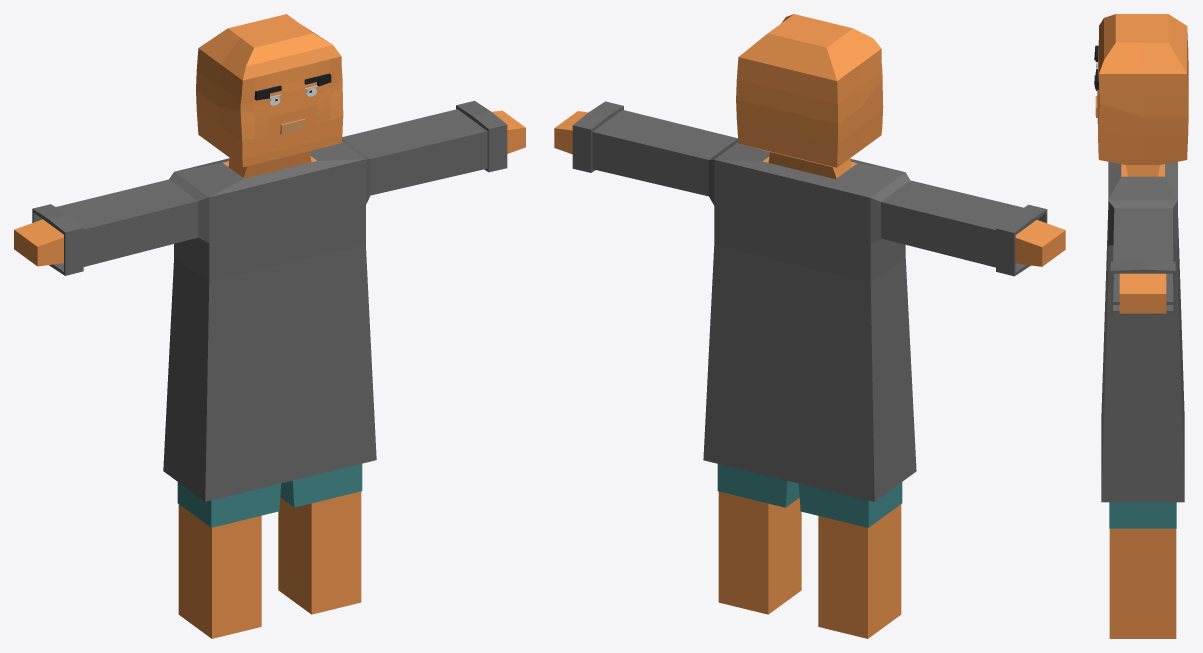
Rendered from character5.glb.
3 views of the same model, side by side, from view 1: azimuth 30°, elevation 25°; view 2: azimuth 150°, elevation 25°; view 3: azimuth 270°, elevation 25° (orthographic).
Parts seen in each view (by area): view 1: Cube.001, Cube, Cube.002; view 2: Cube.001, Cube, Cube.002; view 3: Cube.001, Cube, Cube.002.
Part boxes in pixels (x1,y1,x2,y2): Cube.001: (32, 100, 507, 501); Cube: (14, 14, 525, 638); Cube.002: (177, 463, 362, 527); Cube.001: (572, 101, 1047, 501); Cube: (554, 14, 1065, 638); Cube.002: (717, 464, 902, 527); Cube.001: (1101, 161, 1184, 502); Cube: (1094, 14, 1188, 638); Cube.002: (1109, 502, 1176, 528).
Size of the model in its own units: 1.8 by 2.03 by 0.3027.
